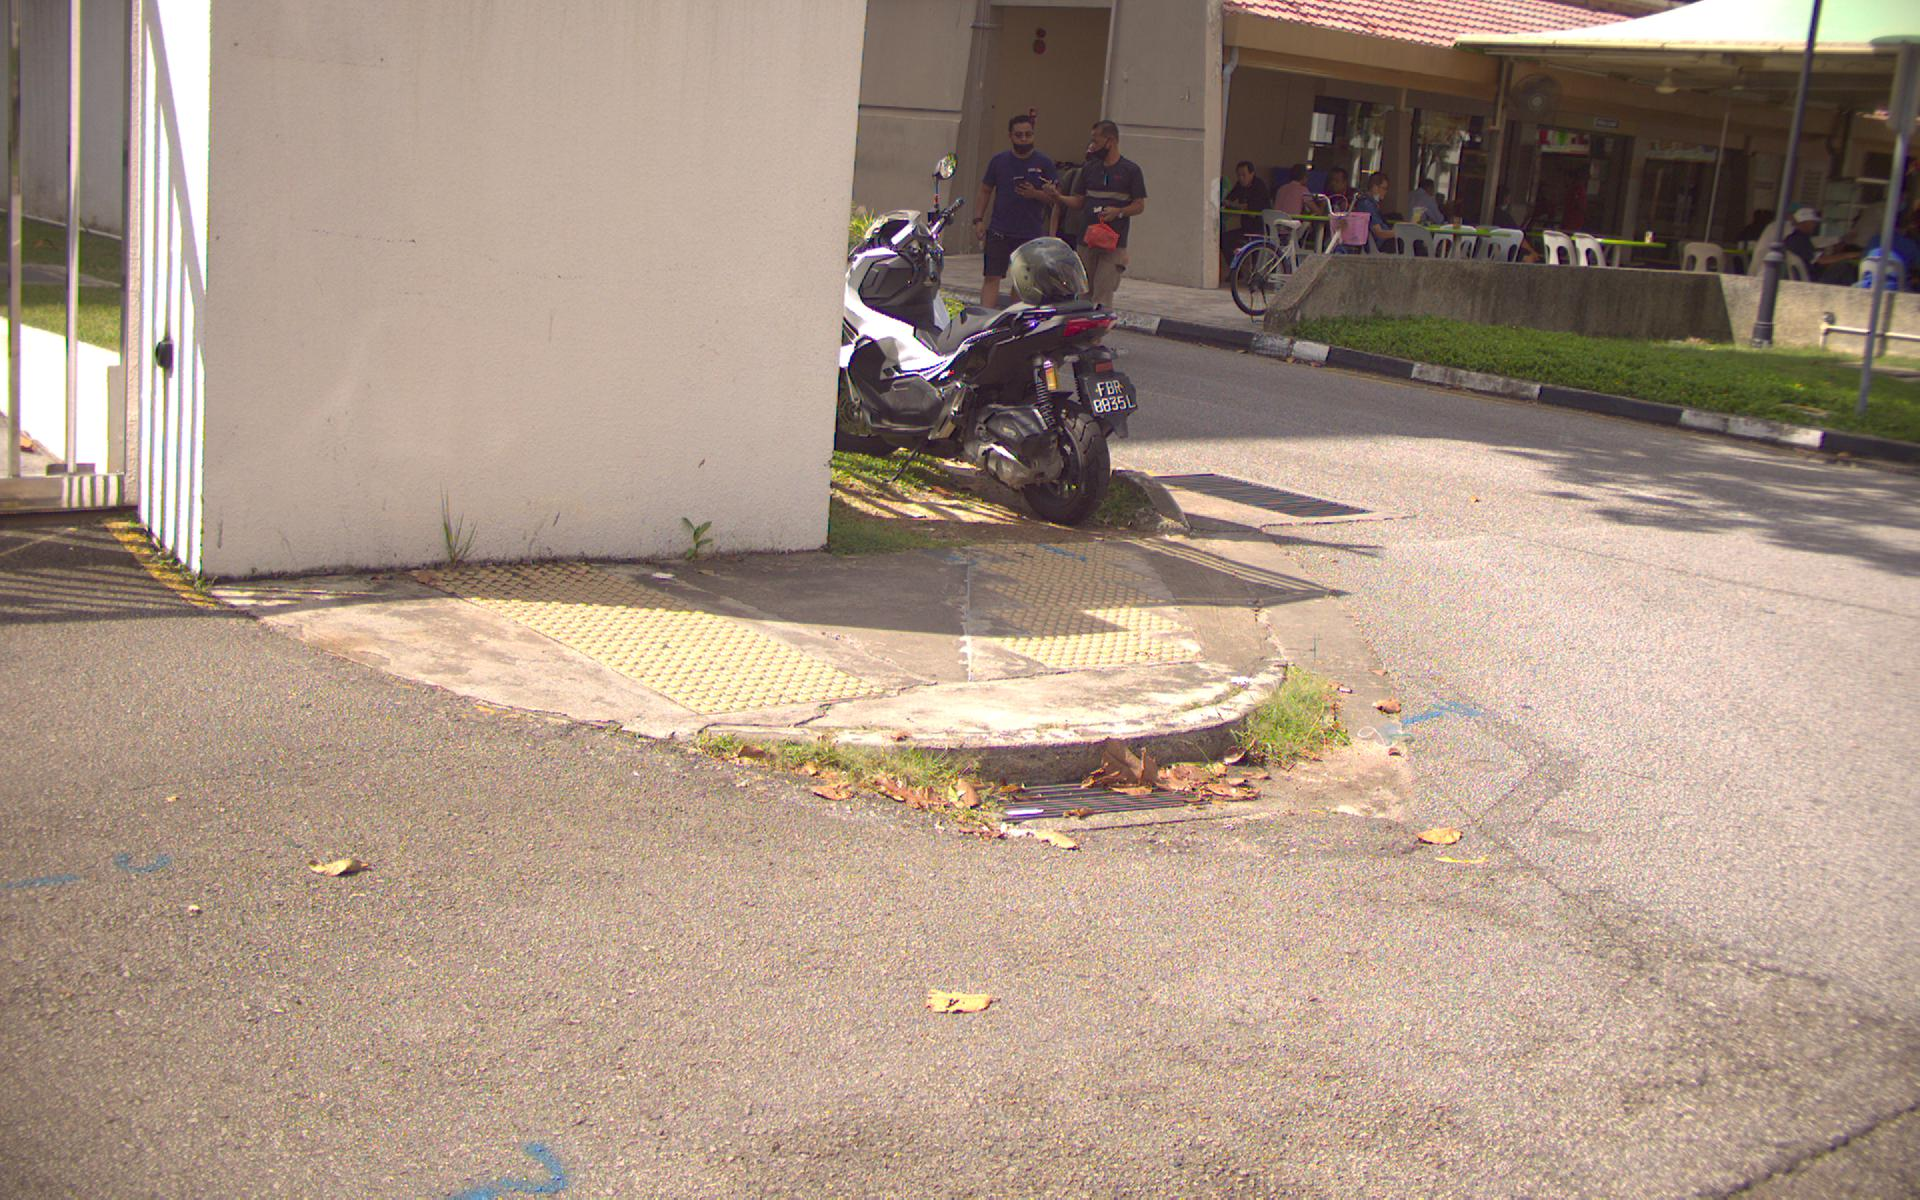road_curb_low: (715, 632, 1467, 865)
